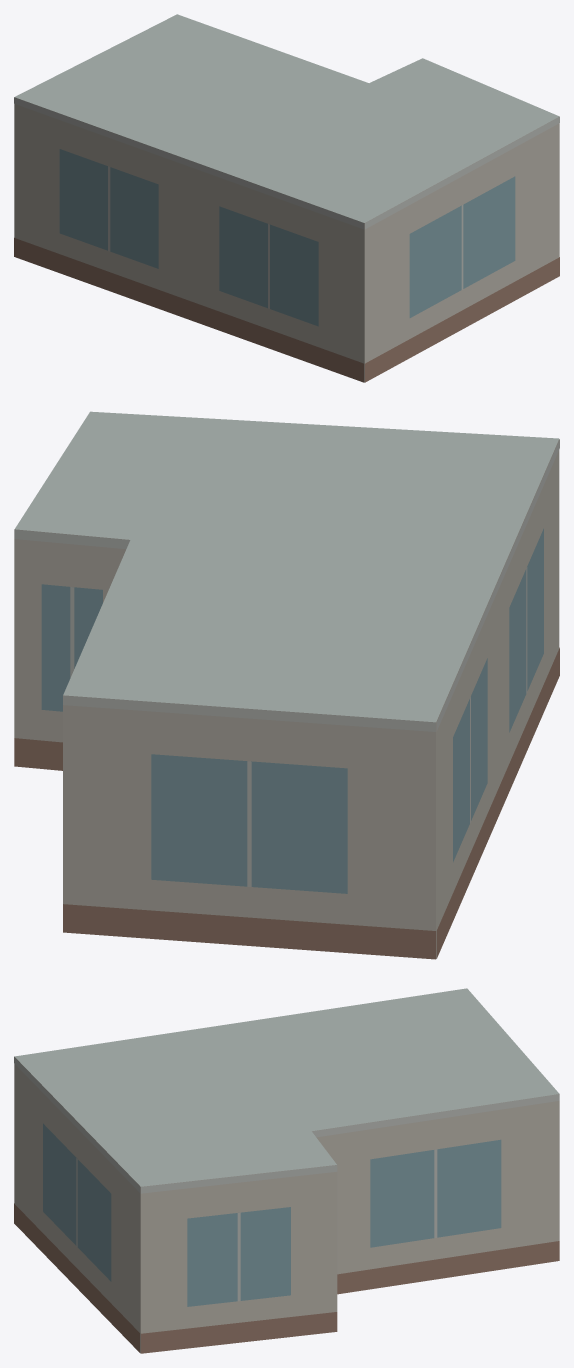
File: survey-upis-32751355.glb
3 renders of one model, top to bottom at view 1: azimuth 30°, elevation 25°; view 2: azimuth 150°, elevation 25°; view 3: azimuth 270°, elevation 25°, orthographic. The views are drawn at different scales.
Visible parts, largest first — view 1: survey-upis-32751355.tmp; view 2: survey-upis-32751355.tmp; view 3: survey-upis-32751355.tmp.
Boxes of the visible parts, x1,y1,x2,y2 form: survey-upis-32751355.tmp: (14, 14, 559, 382); survey-upis-32751355.tmp: (14, 411, 559, 959); survey-upis-32751355.tmp: (14, 988, 559, 1353).
Size of the model in its own units: 7.8 by 3.05 by 9.05.
